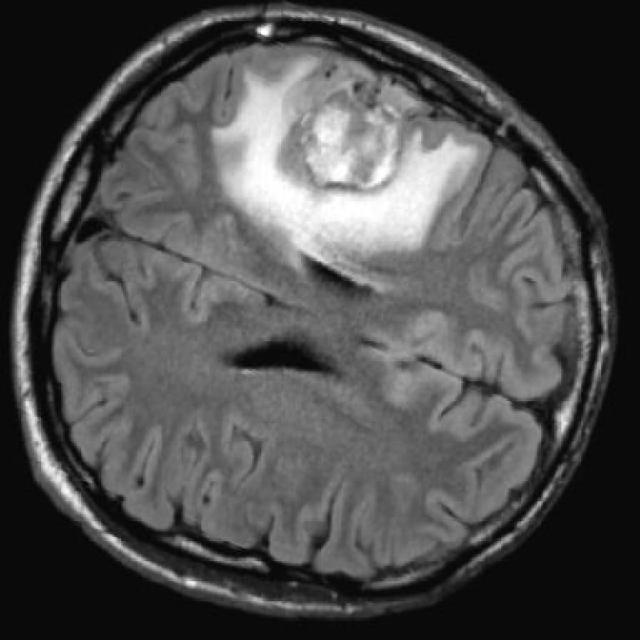Brain-Tumor: (216, 38, 480, 272)
